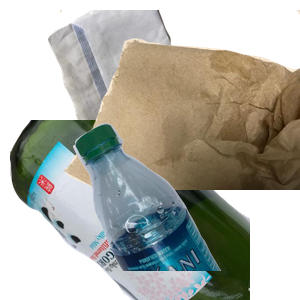glass: (10, 120, 250, 300)
paper: (45, 10, 251, 190)
plastic: (71, 120, 300, 300)
trash: (60, 10, 300, 190)
